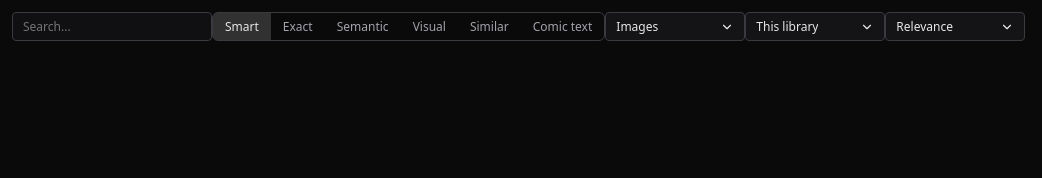
it: SRC-09 — Results use shared gallery › renders search results
In the field named "Search query": (112, 26) [12, 12, 212, 41], type "test"
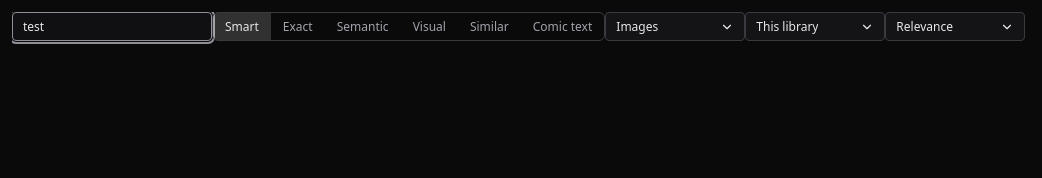
Press Enter
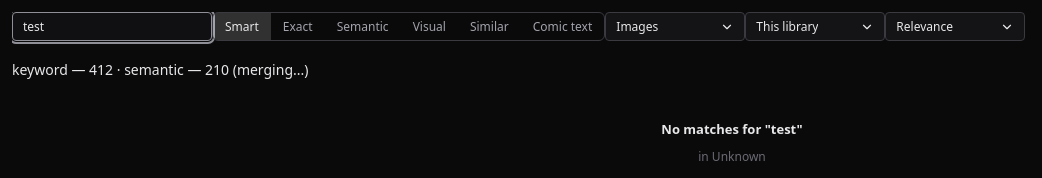
Result: the text "keyword — 412 · semantic — 210 (merging...)" is shown at [12, 60, 308, 79]
